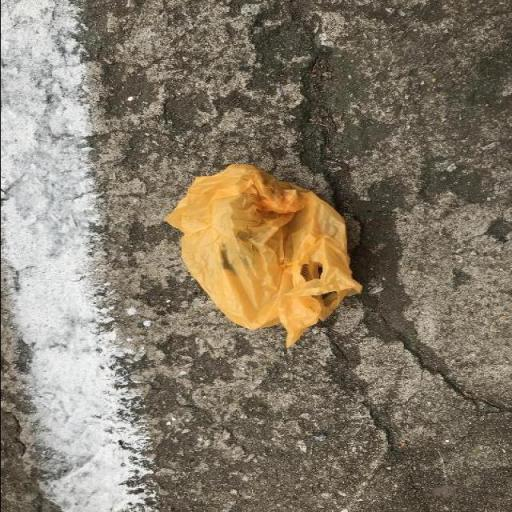polythene: (166, 164, 361, 347)
